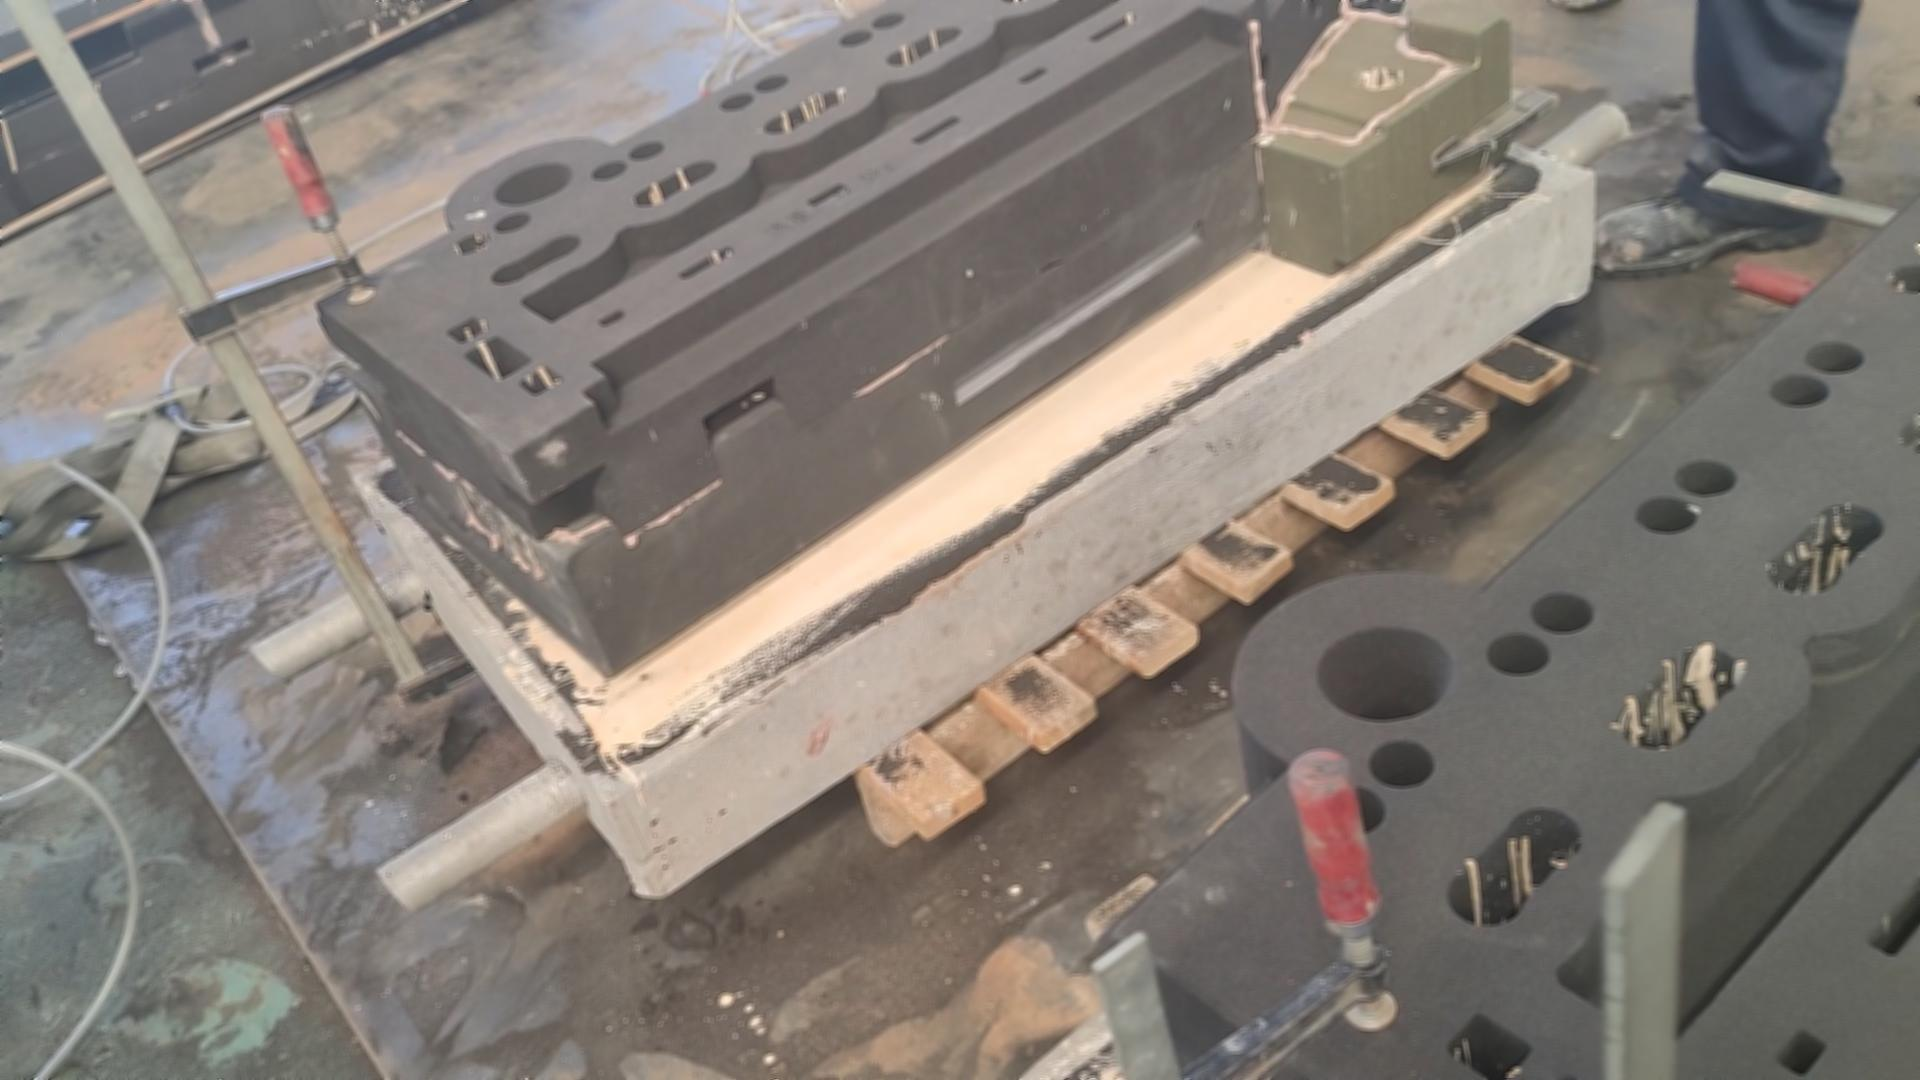pouring hole: (1317, 625, 1453, 720), (493, 162, 574, 204)
